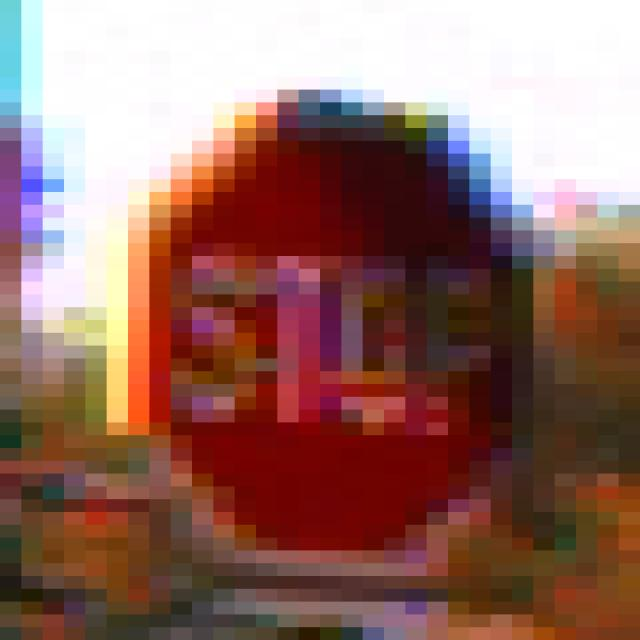STOP: (108, 65, 534, 577)
